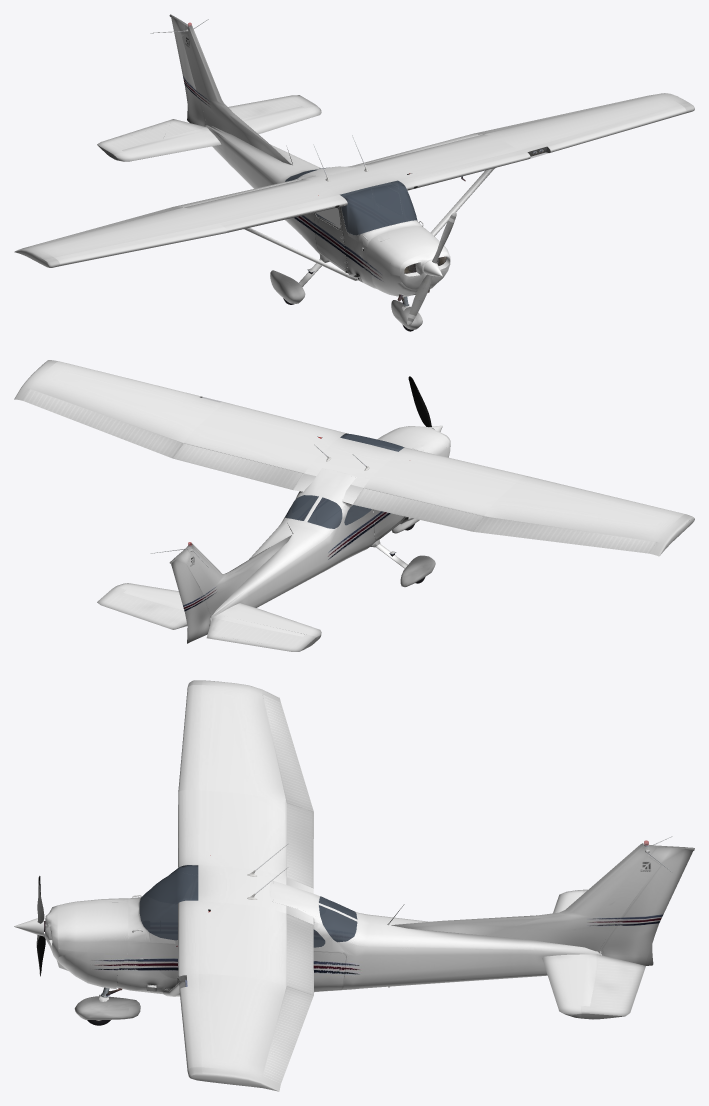
3 renders of one model, top to bottom at view 1: azimuth 30°, elevation 25°; view 2: azimuth 150°, elevation 25°; view 3: azimuth 270°, elevation 25°, orthographic. The views are drawn at different scales.
Parts seen in each view (by area): view 1: body, elevR1, rud1, elevL1, flapL1; view 2: body, flapL1, ailR1, ailL1, rud1, elevL1, elevR1; view 3: body, rud1, flapL1, elevL1, ailL1, ailR1.
Boxes of the visible parts, bbox=[...] form: body: bbox=[14, 19, 694, 329]; elevR1: bbox=[97, 119, 204, 158]; rud1: bbox=[169, 14, 205, 126]; elevL1: bbox=[228, 95, 316, 118]; flapL1: bbox=[173, 134, 482, 207]; body: bbox=[14, 360, 694, 648]; flapL1: bbox=[173, 443, 483, 531]; ailR1: bbox=[473, 516, 656, 553]; ailL1: bbox=[23, 389, 183, 458]; rud1: bbox=[169, 548, 210, 643]; elevL1: bbox=[97, 587, 187, 629]; elevR1: bbox=[206, 619, 316, 651]; body: bbox=[14, 680, 672, 1091]; rud1: bbox=[600, 845, 694, 965]; flapL1: bbox=[286, 803, 313, 994]; elevL1: bbox=[581, 955, 645, 1019]; ailL1: bbox=[262, 986, 313, 1084]; ailR1: bbox=[262, 694, 313, 811].
Size of the model in its own units: 11.27 by 2.46 by 8.23.
17 materials, 15 textured.
